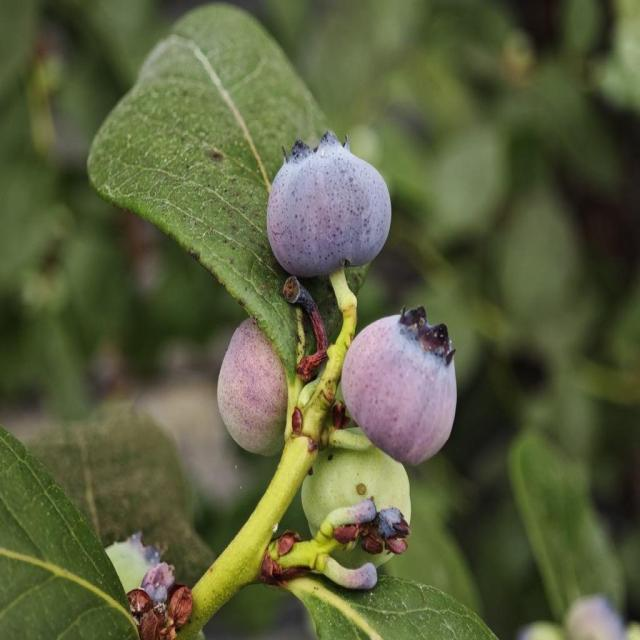RipeBlueBerry: (268, 140, 392, 271)
Semi-RipeBlueBerry: (345, 318, 460, 457)
